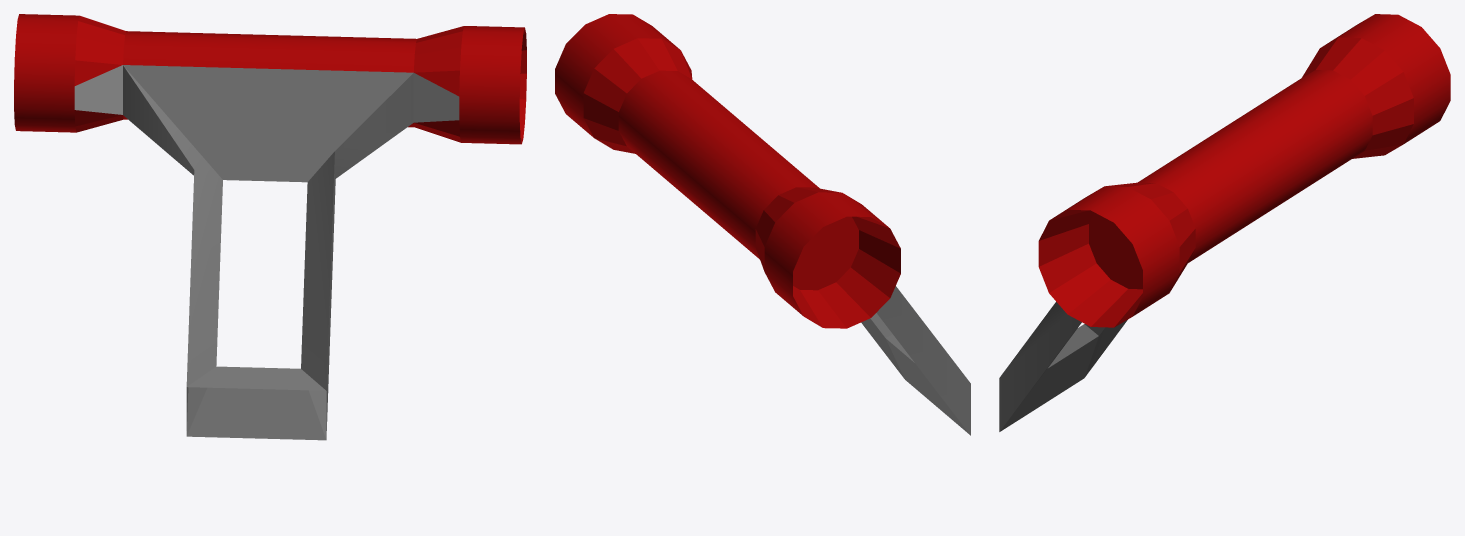
Rendered from SwichterPull.fbx.
3 views of the same model, side by side, from view 1: azimuth 30°, elevation 25°; view 2: azimuth 150°, elevation 25°; view 3: azimuth 270°, elevation 25° (orthographic). The views are drawn at different scales.
Parts seen in each view (by area): view 1: polySurface6; view 2: polySurface6; view 3: polySurface6.
Part boxes in pixels (x1,y1,x2,y2): polySurface6: (14, 14, 526, 440); polySurface6: (555, 14, 970, 435); polySurface6: (999, 14, 1450, 431).
Size of the model in its own units: 3.48 by 3.17 by 2.95.
